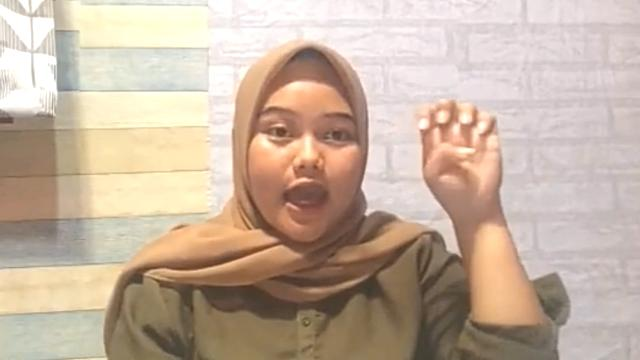E: (419, 96, 505, 207)
